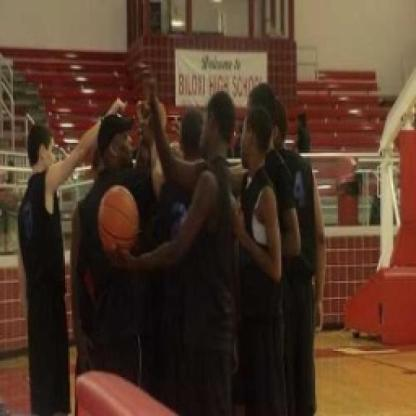basketball: (93, 178, 145, 258)
